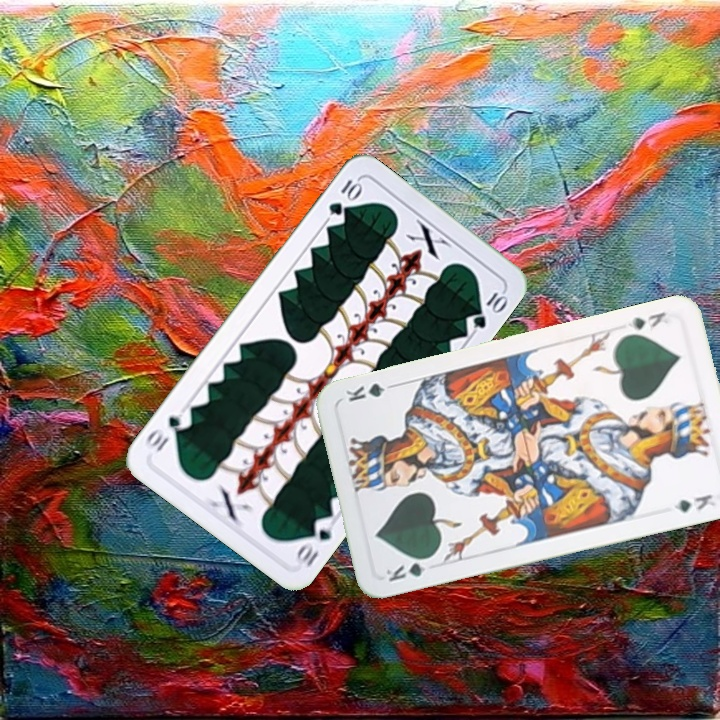G10: (292, 513, 337, 570), (324, 175, 364, 218)
GK: (382, 552, 437, 585), (624, 308, 668, 333)
